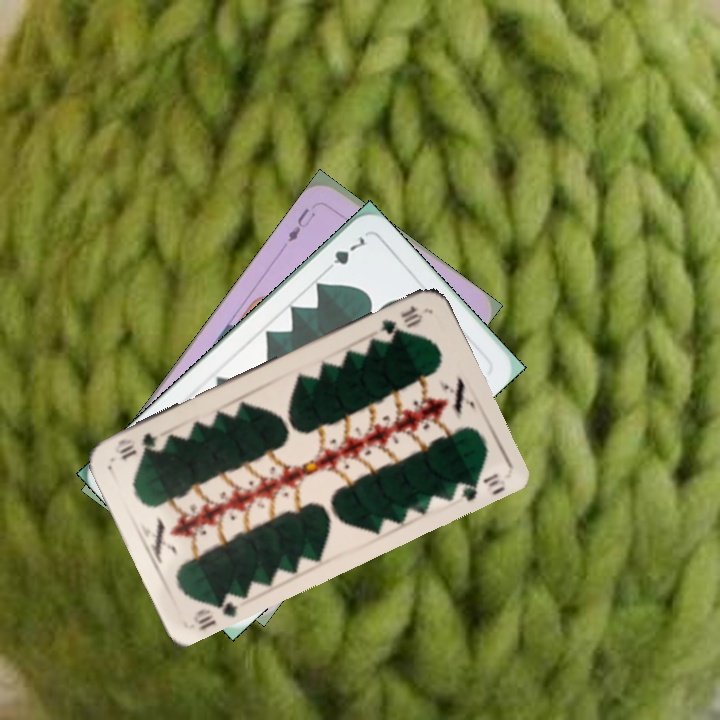EU: (283, 204, 318, 245)
G10: (189, 589, 242, 633), (374, 301, 426, 337)
G7: (320, 232, 368, 276)
